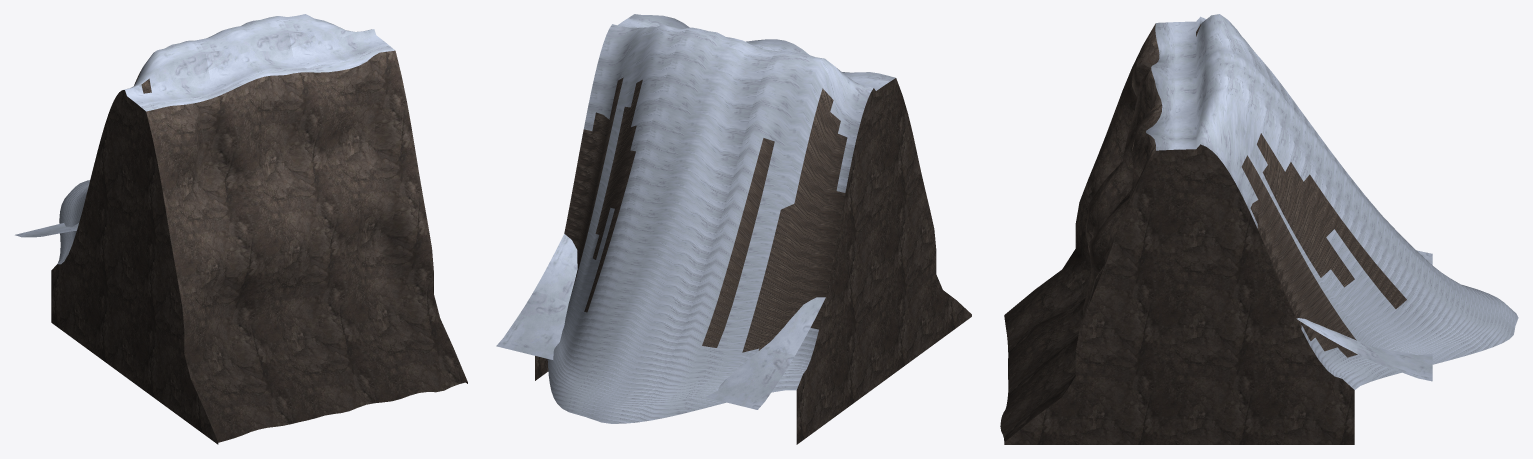
File: seacliff_straight6c_h5_v5_winter.glb
3 renders of one model, left to right at view 1: azimuth 30°, elevation 25°; view 2: azimuth 150°, elevation 25°; view 3: azimuth 270°, elevation 25°, orthographic. The views are drawn at different scales.
Visible parts, largest first — view 1: seacliff_straight6c_h5; view 2: seacliff_straight6c_h5; view 3: seacliff_straight6c_h5.
Boxes of the visible parts, box(x1,y1,x2,y2) form: seacliff_straight6c_h5: box(15, 14, 467, 444); seacliff_straight6c_h5: box(496, 14, 971, 444); seacliff_straight6c_h5: box(1000, 14, 1518, 444).
Bounding box in the file's own units: 6 × 7.15 × 10.29.
Materials: 2 (2 with a texture image).
